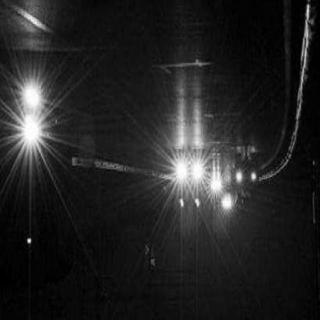other: (8, 71, 54, 177), (217, 154, 257, 230)
